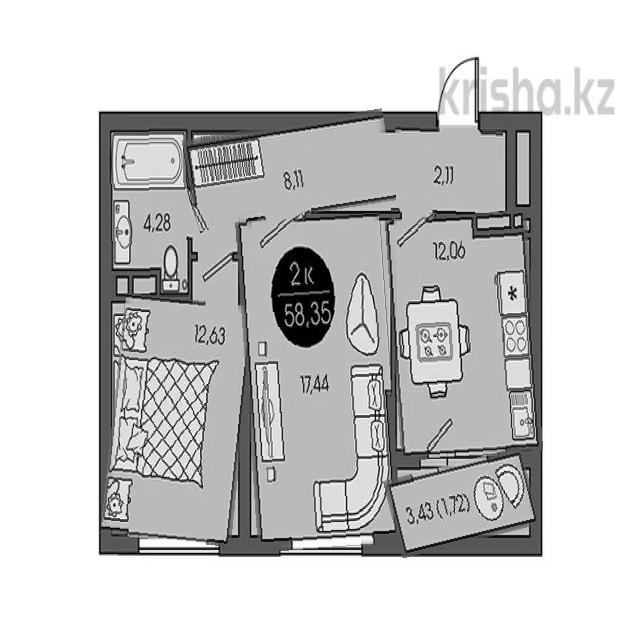balcony: (387, 455, 537, 550)
bathroom: (109, 127, 189, 297)
hallway: (184, 115, 393, 224), (392, 127, 502, 216)
kitchen: (389, 213, 539, 459)
living_room: (241, 215, 396, 550), (106, 296, 249, 544)
